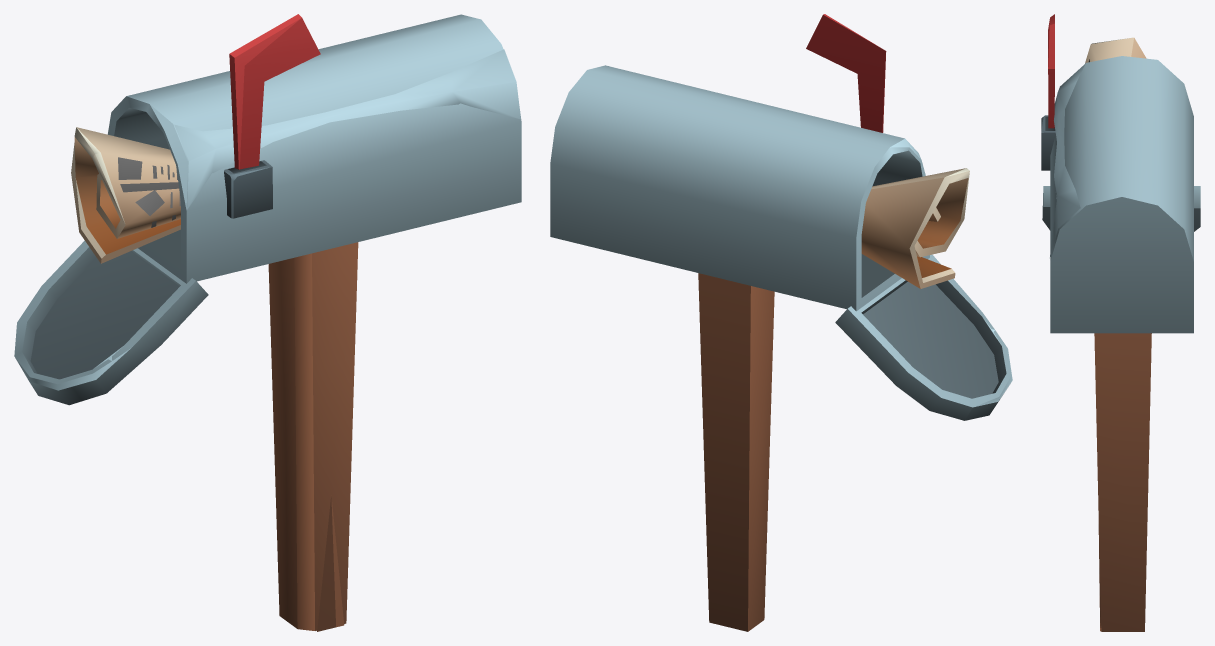
The model's file is mailbox.glb.
3 renders of one model, left to right at view 1: azimuth 30°, elevation 25°; view 2: azimuth 150°, elevation 25°; view 3: azimuth 270°, elevation 25°, orthographic. The views are drawn at different scales.
Visible parts, largest first — view 1: mailbox, Cube.009, Spiral; view 2: mailbox, Cube.009, Spiral; view 3: mailbox, Spiral, Cube.009.
Boxes of the visible parts, left/top/right/bottom form: mailbox: left=107, top=14, right=521, bottom=631; Cube.009: left=14, top=240, right=208, bottom=405; Spiral: left=71, top=127, right=180, bottom=263; mailbox: left=550, top=14, right=929, bottom=631; Cube.009: left=835, top=254, right=1012, bottom=420; Spiral: left=861, top=168, right=969, bottom=288; mailbox: left=1041, top=14, right=1193, bottom=631; Spiral: left=1085, top=37, right=1146, bottom=63; Cube.009: left=1042, top=186, right=1200, bottom=231.
Bounding box in the file's own units: 0.4965 × 0.6809 × 0.1706.
1 material, 1 textured.
